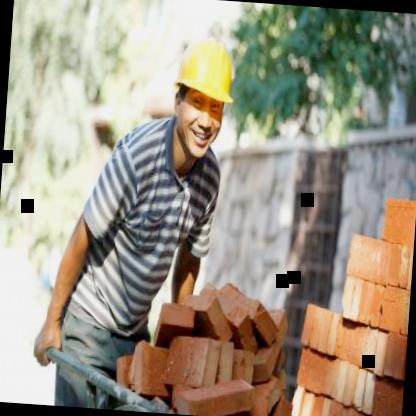helmet: (164, 23, 244, 164)
